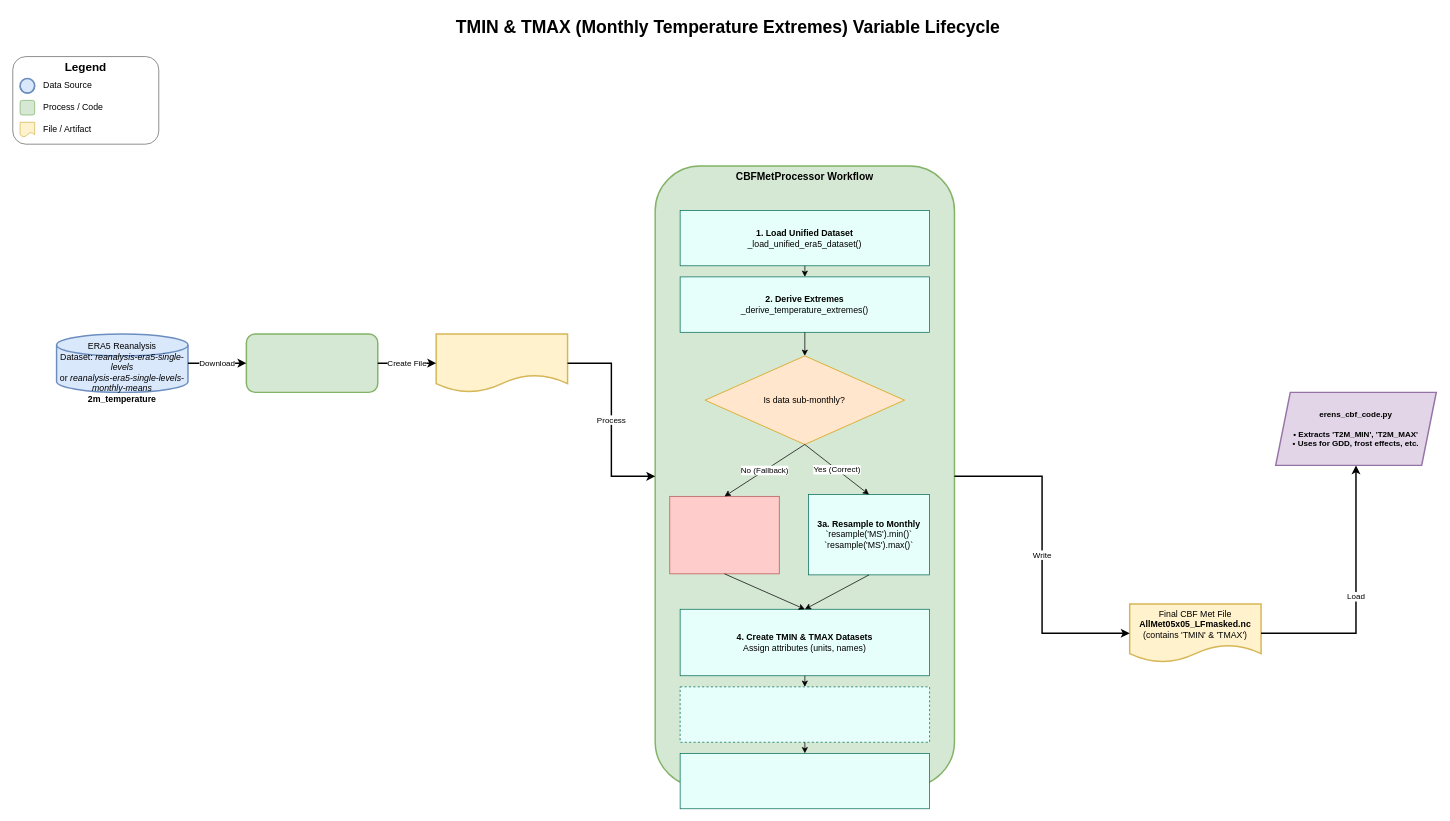
Some shapes in this 1450 by 821 pixel diagram are drawn without their labels. The shapes that lost their labels are listed below. From the top down, each one's box as (x1, y1, x2, y2) in pixels, then its label:
(245, 333, 378, 393): ecmwf_downloader.py
(435, 333, 568, 393): Downloaded NetCDF File(s) *.nc (contains 't2m' variable)
(669, 496, 779, 574): 3b. Use As-Is (Monthly Mean used for Min/Max) [Warning Issued]
(679, 686, 930, 742): 5. Apply Land Mask (Optional) _apply_land_masking()
(679, 753, 930, 809): 6. Merge & Write _create_unified_cbf_file()
